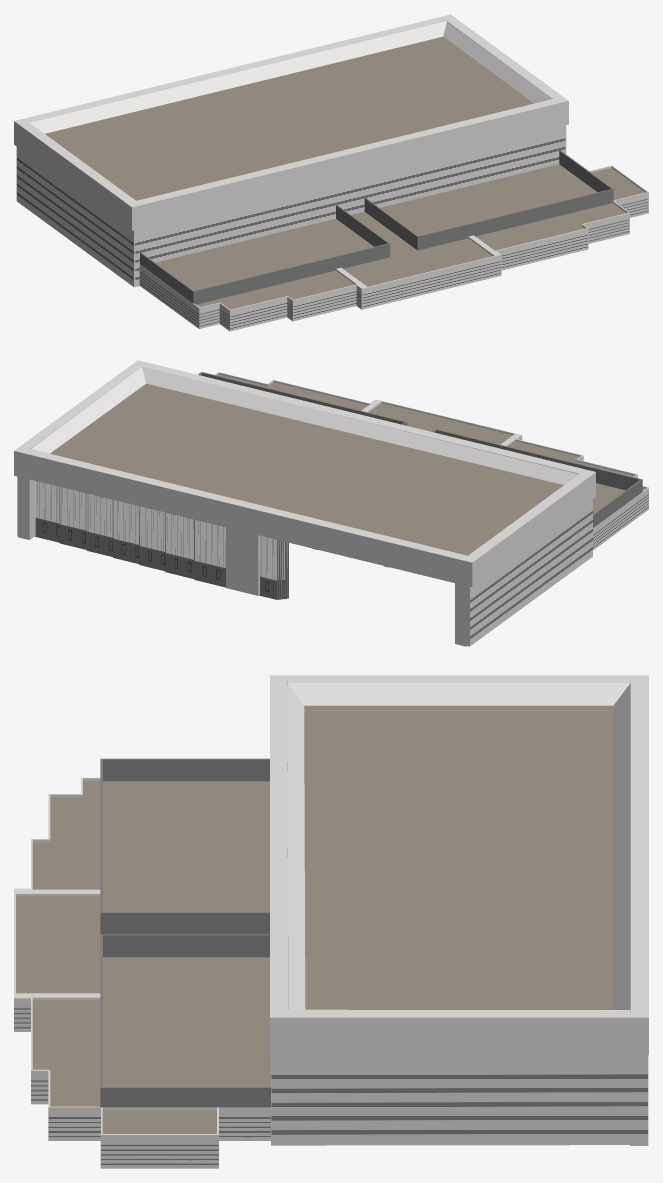
The model's file is 2023 AF1 Hangar.gltf.
The picture shows the model from 3 angles, top to bottom: view 1: azimuth 30°, elevation 25°; view 2: azimuth 150°, elevation 25°; view 3: azimuth 270°, elevation 25°; orthographic projection. The views are drawn at different scales.
Visible parts, largest first — view 1: Cube.039, Cube.001, Cube.021, Cube.042, Cube.031, Cube.199, Cube.027, Cube.036, Cube.194, Cube.040, Cube.016, Cube.015 (+19 smaller); view 2: Cube.039, Cube.043, Cube.031, Cube.044, Cube.040, Cube.042, Cube.035, Cube.028, Cube.034, Cube.045, pCube60.002, pCube60.027 (+17 smaller); view 3: Cube.039, Cube.021, Cube.030, Cube.041, Cube.028, Cube.046, Cube.027, Cube.043, Cube.042, Cube.199, Cube.044, Cube.026 (+10 smaller).
Boxes of the visible parts, <box> form: Cube.039: <box>45,36,533,200</box>; Cube.001: <box>135,125,565,286</box>; Cube.021: <box>156,164,596,307</box>; Cube.042: <box>126,97,568,224</box>; Cube.031: <box>16,147,134,287</box>; Cube.199: <box>29,21,446,133</box>; Cube.027: <box>221,207,626,309</box>; Cube.036: <box>126,118,568,230</box>; Cube.194: <box>362,254,500,309</box>; Cube.040: <box>16,121,138,219</box>; Cube.016: <box>417,188,613,250</box>; Cube.015: <box>194,243,389,304</box>; Cube.039: <box>50,383,563,555</box>; Cube.043: <box>14,446,478,581</box>; Cube.031: <box>466,499,592,646</box>; Cube.044: <box>142,367,578,484</box>; Cube.040: <box>463,474,590,575</box>; Cube.042: <box>132,360,595,495</box>; Cube.035: <box>14,470,478,587</box>; Cube.028: <box>266,382,579,462</box>; Cube.034: <box>226,527,259,595</box>; Cube.045: <box>31,367,145,453</box>; pCube60.002: <box>194,519,225,587</box>; pCube60.027: <box>165,512,194,578</box>; Cube.039: <box>304,705,613,1009</box>; Cube.021: <box>82,781,270,1106</box>; Cube.030: <box>271,1055,648,1145</box>; Cube.041: <box>276,1010,645,1047</box>; Cube.028: <box>31,842,71,1072</box>; Cube.046: <box>288,683,629,705</box>; Cube.027: <box>49,796,89,1106</box>; Cube.043: <box>630,675,648,1047</box>; Cube.042: <box>270,675,287,1047</box>; Cube.199: <box>613,681,630,1014</box>; Cube.044: <box>287,681,305,1014</box>; Cube.026: <box>82,781,106,1106</box>.
Size of the model in its own units: 169 by 28.84 by 125.
